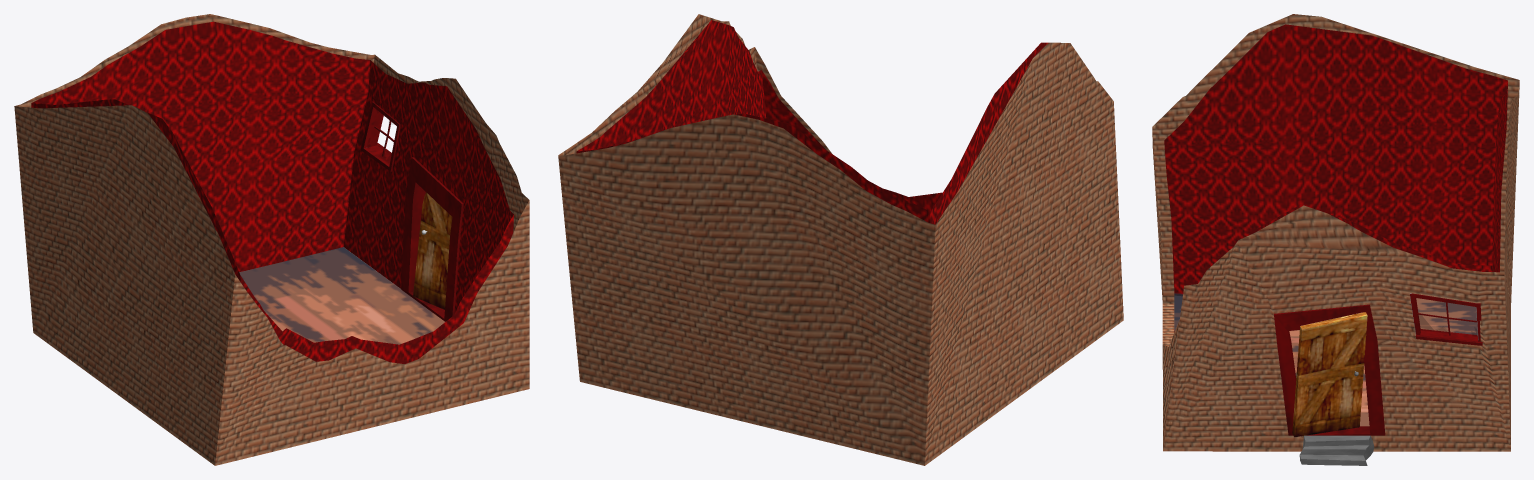
Rendered from house destroyed.fbx.
The picture shows the model from 3 angles, left to right: view 1: azimuth 30°, elevation 25°; view 2: azimuth 150°, elevation 25°; view 3: azimuth 270°, elevation 25°; orthographic projection. The views are drawn at different scales.
Visible parts, largest first — view 1: house1, door; view 2: house1; view 3: house1, door.
Boxes of the visible parts, left/top/right/bottom form: house1: left=14, top=14, right=529, bottom=465; door: left=413, top=192, right=452, bottom=309; house1: left=558, top=14, right=1123, bottom=465; house1: left=1152, top=14, right=1519, bottom=465; door: left=1292, top=312, right=1367, bottom=437.
Size of the model in its own units: 6.06 by 4.93 by 5.63.
